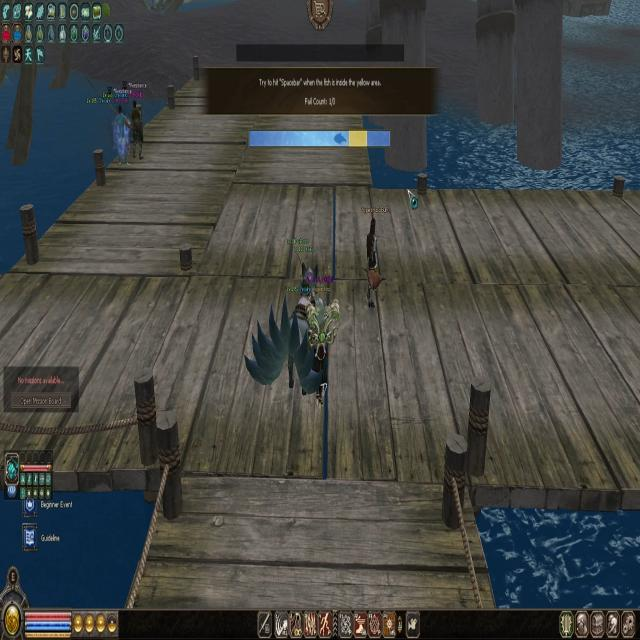box: (349, 130, 367, 147)
fishes: (334, 132, 346, 144)
